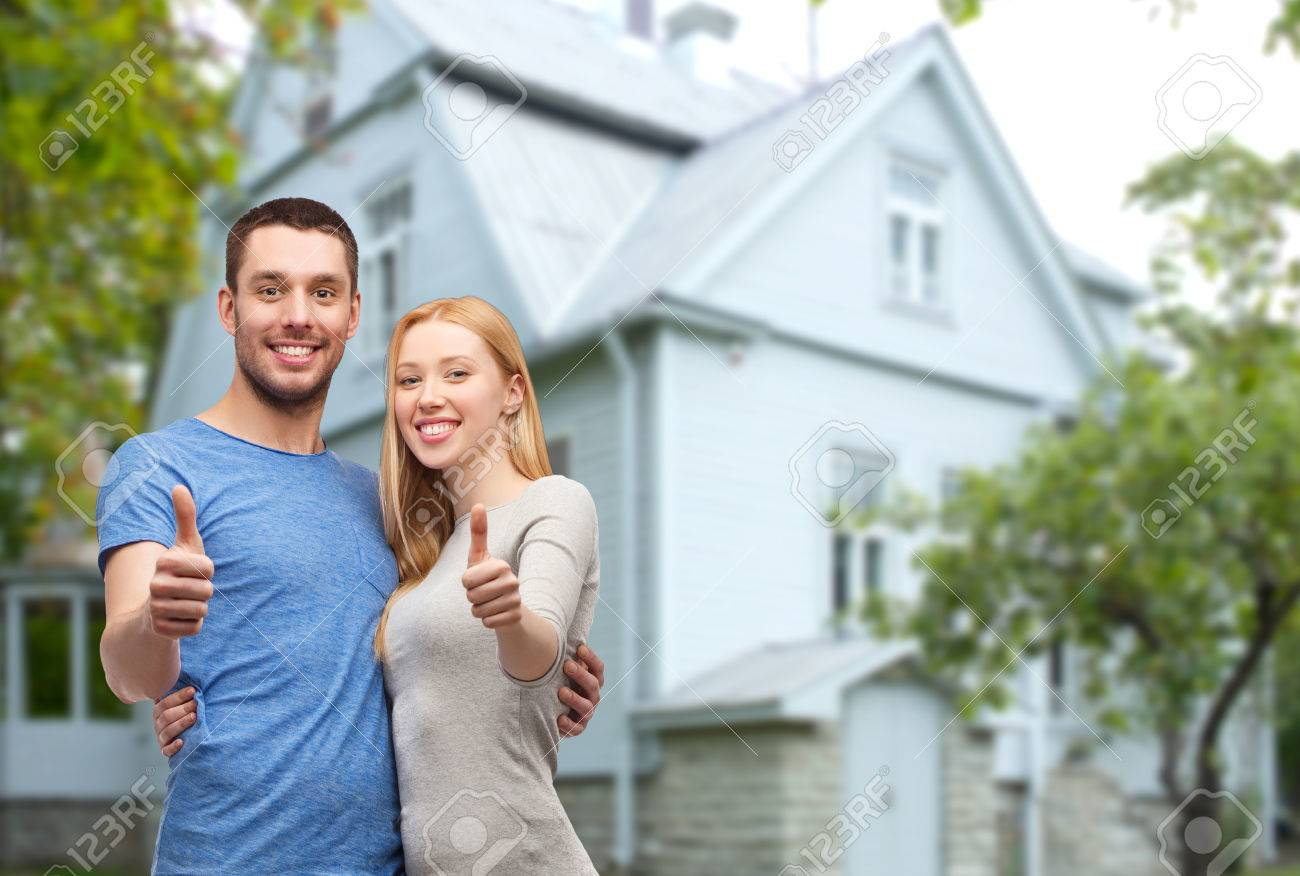thumbsup: (150, 484, 215, 638), (462, 504, 523, 629)
